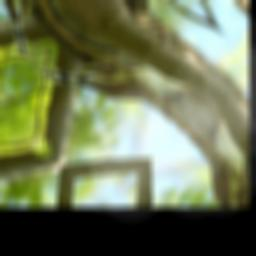Cuckoo: (40, 2, 196, 156)
